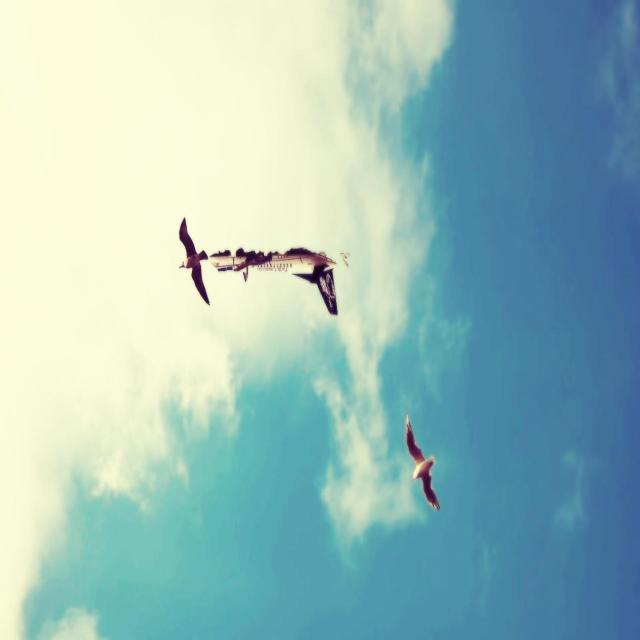airplane: (208, 244, 338, 316)
